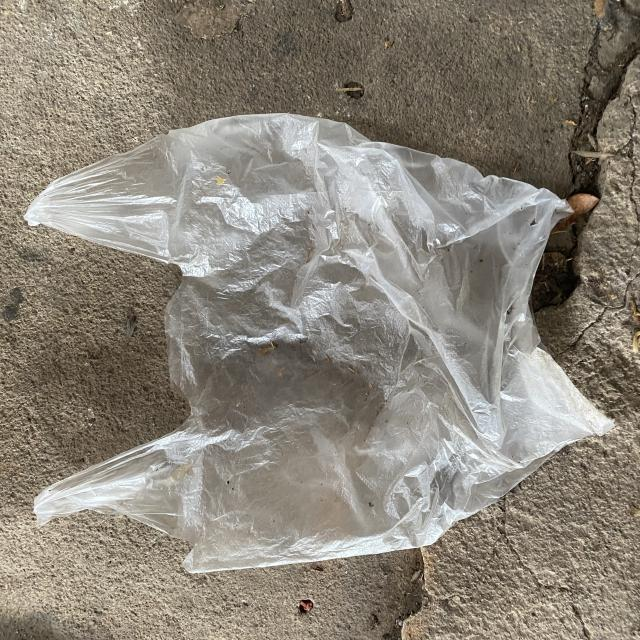Single-layer Plastic: (26, 114, 612, 572)
